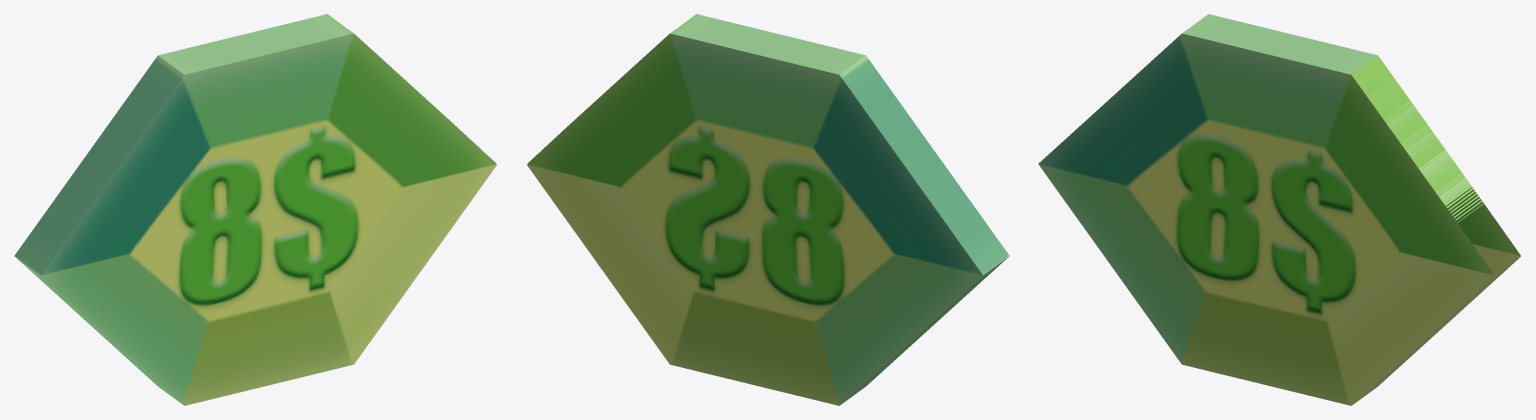
Rendered from 11_256Dollars.fbx.
The picture shows the model from 3 angles, left to right: view 1: azimuth 30°, elevation 25°; view 2: azimuth 150°, elevation 25°; view 3: azimuth 330°, elevation 25°; orthographic projection.
Visible parts, largest first — view 1: _8Dollars; view 2: _8Dollars; view 3: _8Dollars.
Boxes of the visible parts, x1,y1,x2,y2 form: _8Dollars: (14, 14, 496, 405); _8Dollars: (527, 14, 1009, 405); _8Dollars: (1038, 14, 1520, 405).
Size of the model in its own units: 89.97 by 62.29 by 9.06.
1 material, 1 textured.
